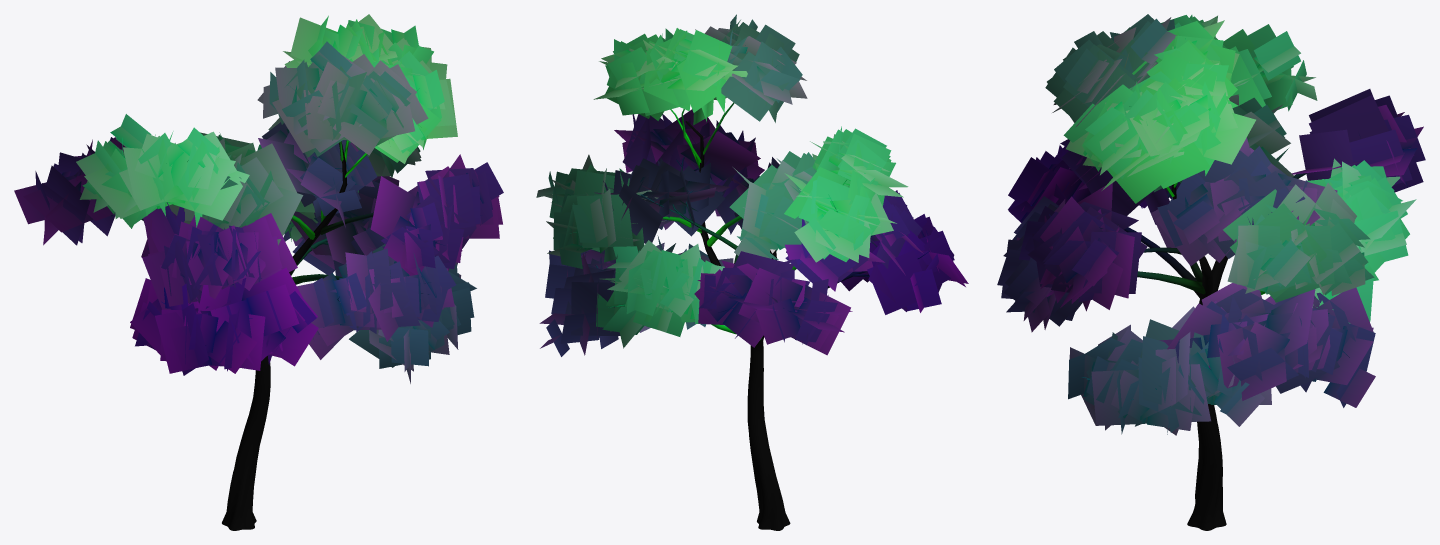
File: Tree1_Mesh.fbx
3 renders of one model, left to right at view 1: azimuth 30°, elevation 25°; view 2: azimuth 150°, elevation 25°; view 3: azimuth 270°, elevation 25°, orthographic. The views are drawn at different scales.
Visible parts, largest first — view 1: Tree_2, Tree_0; view 2: Tree_2, Tree_0; view 3: Tree_2, Tree_0.
Boxes of the visible parts, x1,y1,x2,y2 form: Tree_2: (14, 14, 503, 383); Tree_0: (122, 66, 481, 530); Tree_2: (536, 14, 968, 356); Tree_0: (571, 45, 929, 530); Tree_2: (997, 14, 1425, 435); Tree_0: (1031, 38, 1410, 530).
Bounding box in the file's own units: 329 × 431 × 306.
